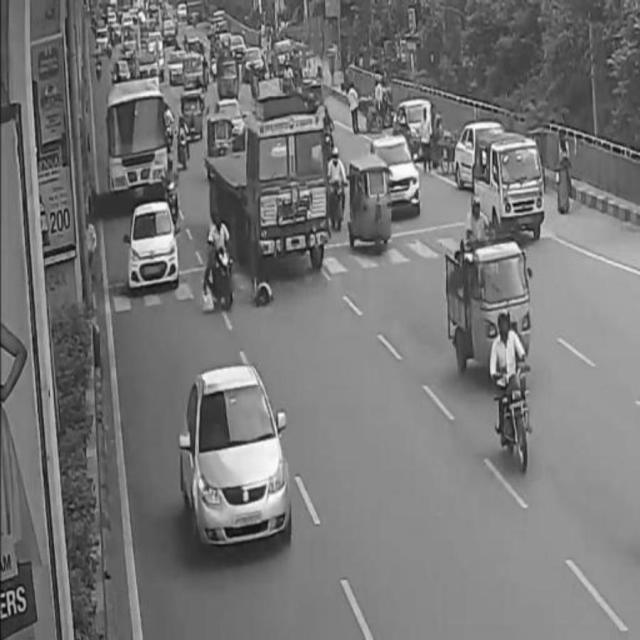person: (557, 135, 572, 218)
vehicle: (188, 370, 291, 550), (245, 117, 327, 268), (445, 246, 531, 364), (489, 309, 534, 476), (479, 135, 546, 243), (107, 89, 169, 195), (129, 204, 180, 292), (346, 162, 392, 250), (377, 139, 423, 215), (206, 212, 238, 310), (327, 144, 344, 234)
